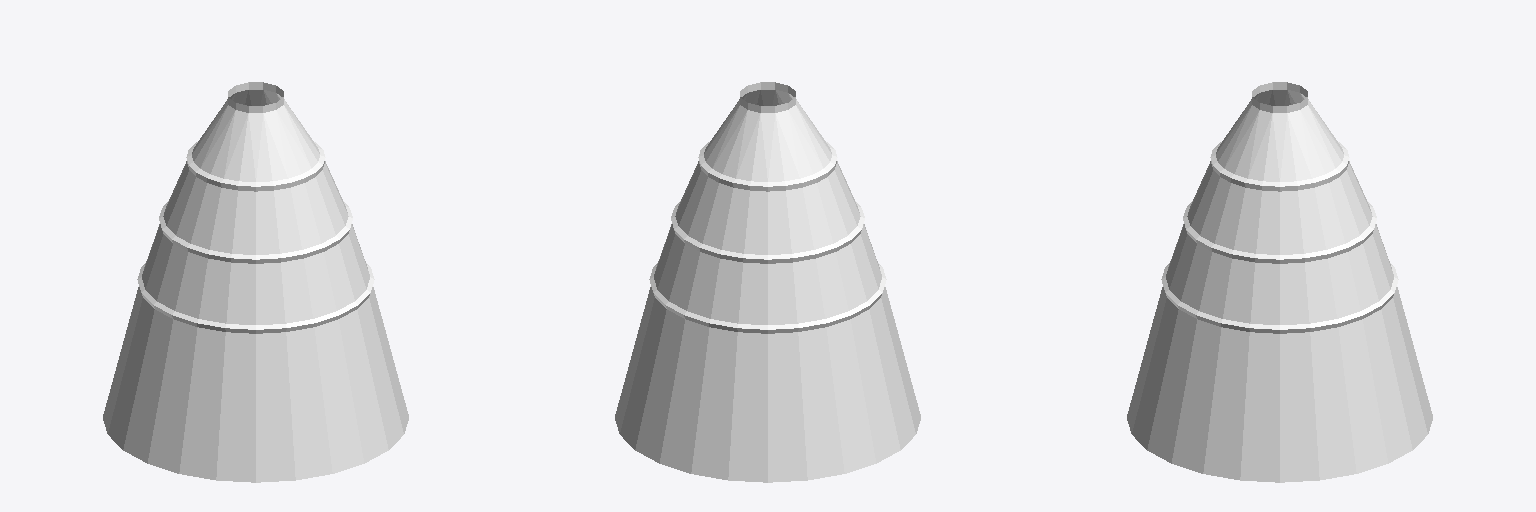
The model's file is LLV_B_Engine_1_Nozzle.obj.
The picture shows the model from 3 angles: view 1: azimuth 30°, elevation 25°; view 2: azimuth 150°, elevation 25°; view 3: azimuth 270°, elevation 25°; orthographic projection.
Parts seen in each view (by area): view 1: LLV_B_Engine_1_Nozzle; view 2: LLV_B_Engine_1_Nozzle; view 3: LLV_B_Engine_1_Nozzle.
Part boxes in pixels (left/top/right/bottom): LLV_B_Engine_1_Nozzle: left=103, top=82, right=408, bottom=482; LLV_B_Engine_1_Nozzle: left=615, top=82, right=920, bottom=482; LLV_B_Engine_1_Nozzle: left=1127, top=82, right=1432, bottom=482.
Bounding box in the file's own units: 0.9405 × 1.09 × 0.9405.